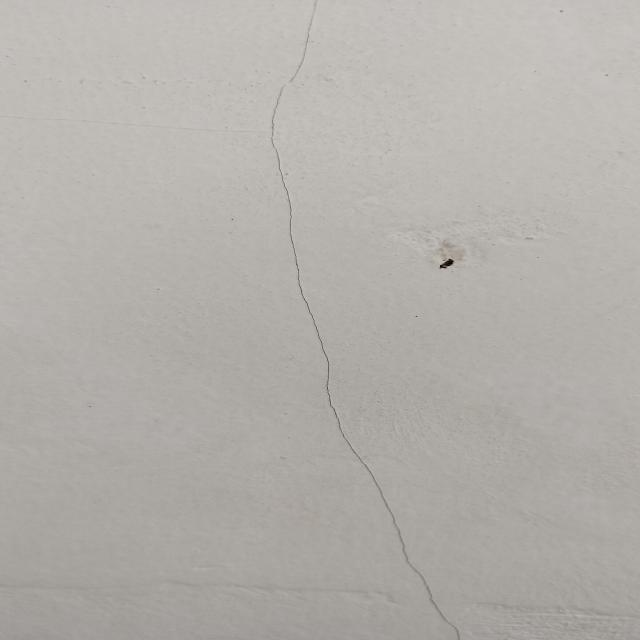Crack: (256, 1, 420, 572)
